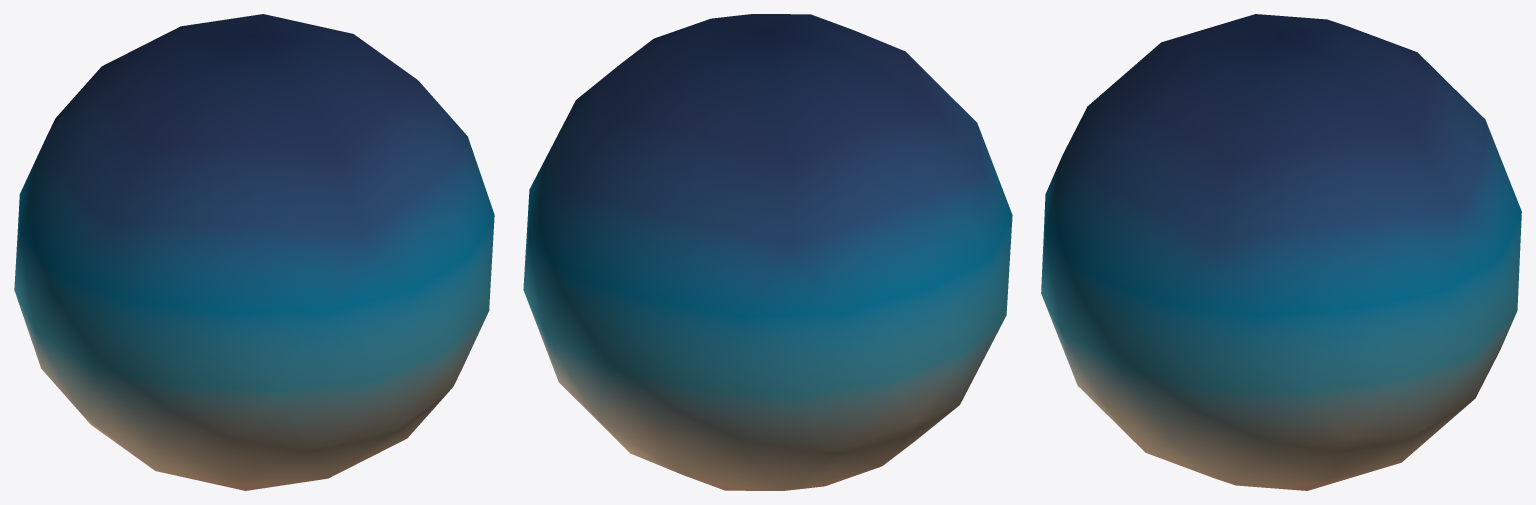
File: SkyDome11.dae
3 renders of one model, left to right at view 1: azimuth 30°, elevation 25°; view 2: azimuth 150°, elevation 25°; view 3: azimuth 270°, elevation 25°, orthographic.
Visible parts, largest first — view 1: F3:GeoDome1-0; view 2: F3:GeoDome1-0; view 3: F3:GeoDome1-0.
Part boxes in pixels (<box>): F3:GeoDome1-0: <box>14,14,494,490</box>; F3:GeoDome1-0: <box>523,14,1012,490</box>; F3:GeoDome1-0: <box>1041,14,1521,490</box>.
Bounding box in the file's own units: 25 × 25 × 25.
